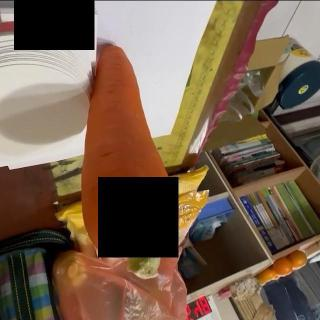carrot: (80, 44, 178, 278)
